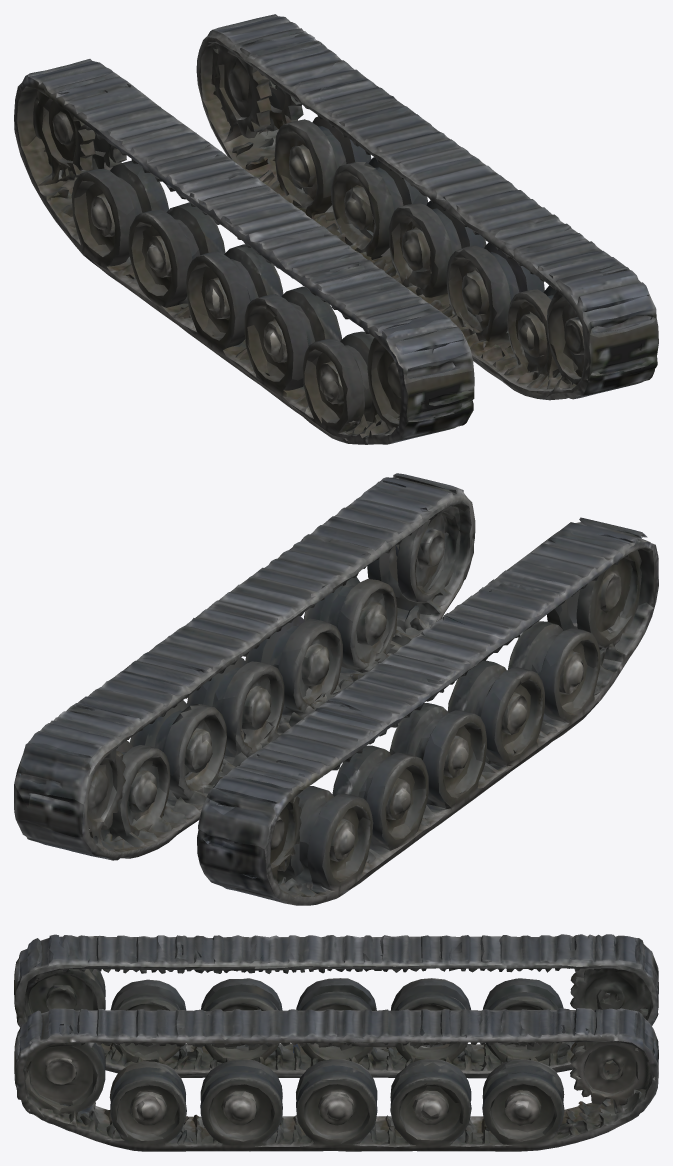
File: light_tracks_only_v3.glb
3 views of the same model, one above another, from view 1: azimuth 30°, elevation 25°; view 2: azimuth 150°, elevation 25°; view 3: azimuth 270°, elevation 25° (orthographic). The views are drawn at different scales.
Parts seen in each view (by area): view 1: geometry_0; view 2: geometry_0; view 3: geometry_0.
Part boxes in pixels (<box>): geometry_0: <box>14,14,658,444</box>; geometry_0: <box>14,473,658,905</box>; geometry_0: <box>14,934,658,1151</box>.
Size of the model in its own units: 1.2 by 0.6415 by 3.17.
Materials: 1 (1 with a texture image).
